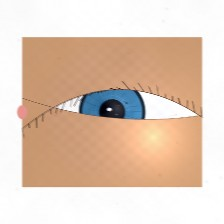pinguecula_lesion: (46, 108, 79, 135)
